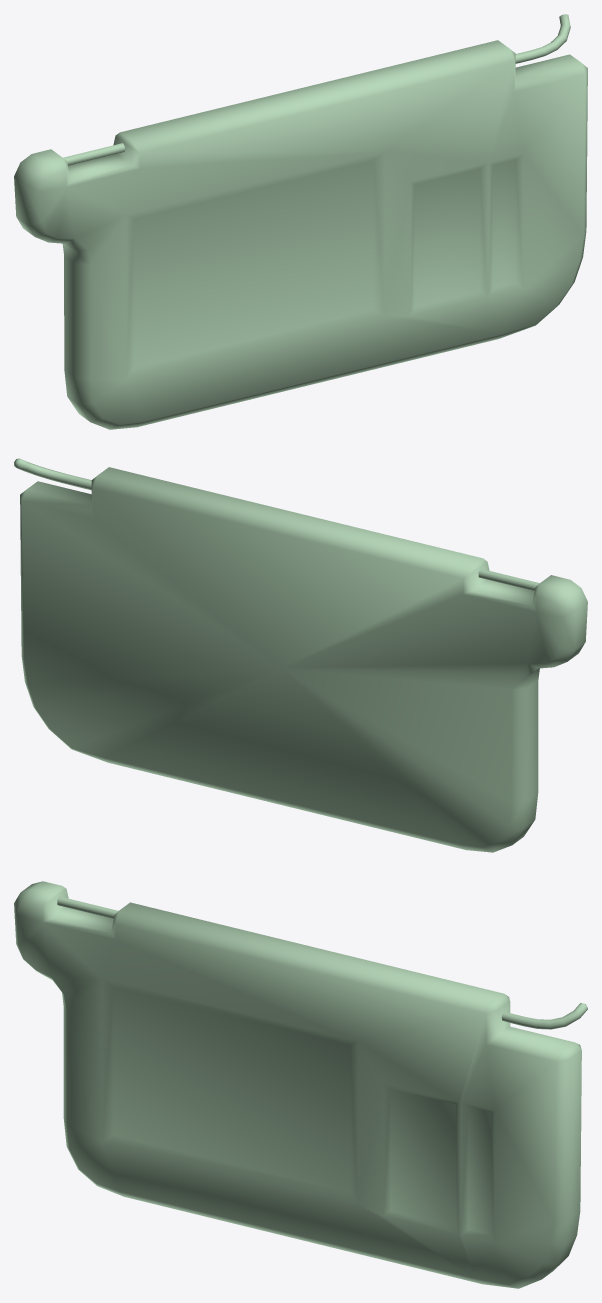
Rendered from CarVisor_low.FBX.
The picture shows the model from 3 angles, top to bottom: view 1: azimuth 30°, elevation 25°; view 2: azimuth 150°, elevation 25°; view 3: azimuth 330°, elevation 25°; orthographic projection.
Visible parts, largest first — view 1: Prod_CarVisor; view 2: Prod_CarVisor; view 3: Prod_CarVisor.
Part boxes in pixels (left/top/right/bottom): Prod_CarVisor: left=14, top=14, right=587, bottom=429; Prod_CarVisor: left=14, top=458, right=587, bottom=852; Prod_CarVisor: left=14, top=881, right=587, bottom=1288.
Size of the model in its own units: 31.26 by 15.48 by 2.53.
